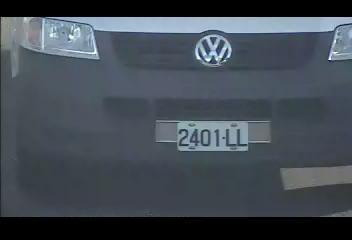plate: (176, 120, 249, 153)
